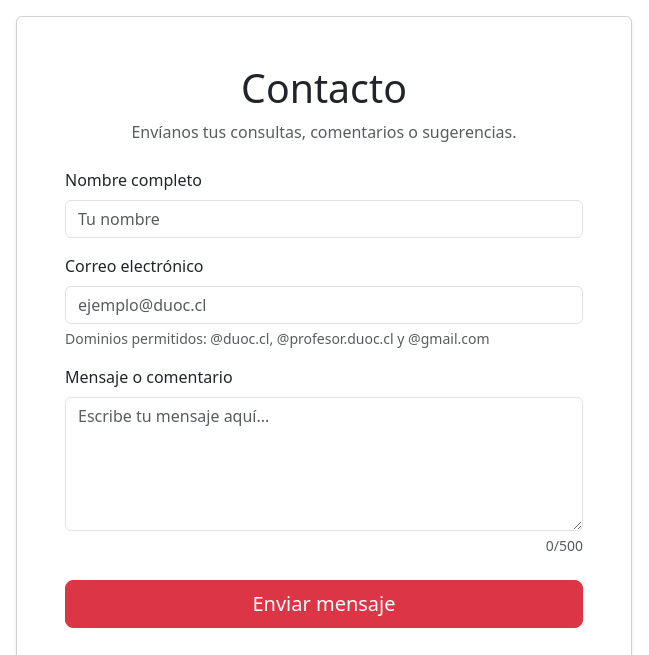
Test: Formulario de Contacto › muestra confirmación al enviar un formulario válido
Type "Ricardo Prueba" into the field with placeholder "Tu nombre".
click(324, 219); type("Ricardo Prueba")  # box [65, 200, 583, 238]
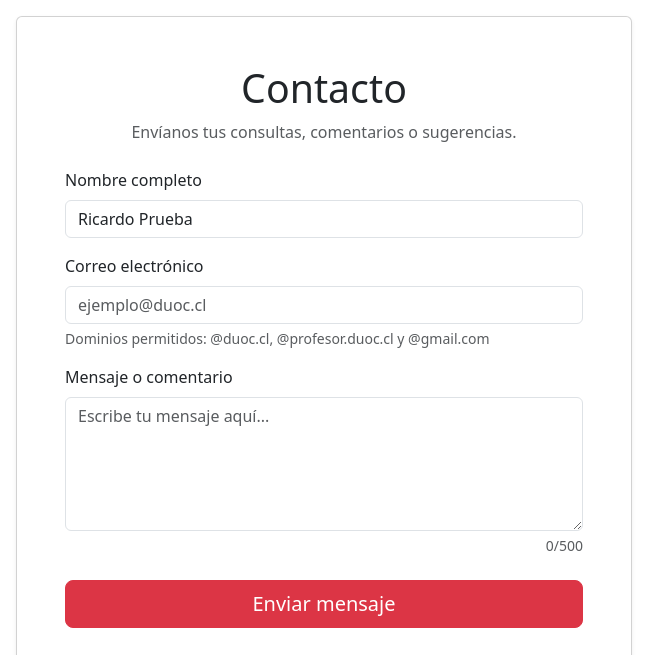
Type "ricardo@gmail.com" into the field with placeholder "ejemplo@duoc.cl".
click(324, 305); type("ricardo@gmail.com")  # box [65, 286, 583, 324]
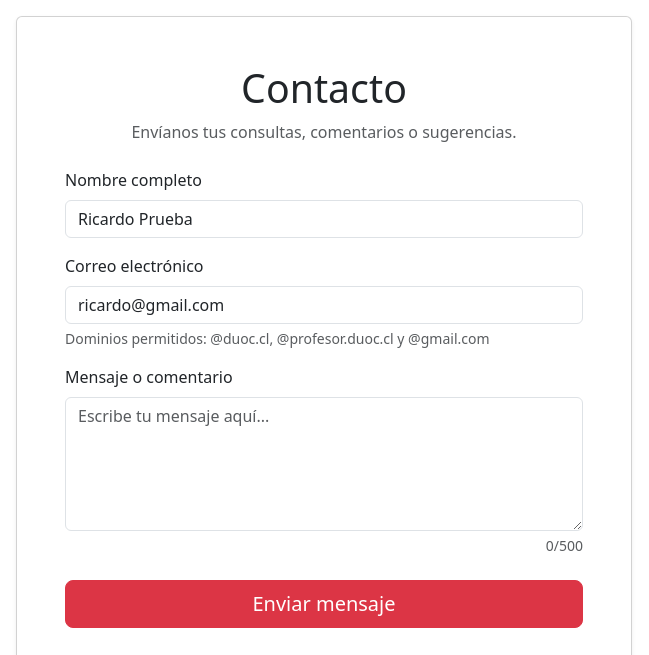
Type "Necesito información sobre un producto." into the text box with placeholder "Escribe tu mensaje aquí...".
click(324, 464); type("Necesito información sobre un producto.")  # box [65, 397, 583, 531]
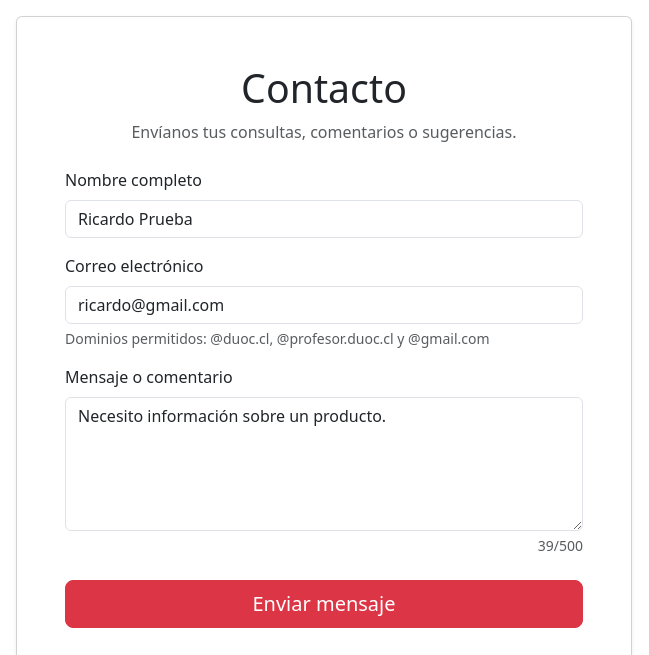
Click the button "Enviar mensaje".
click(324, 604)  # box [65, 580, 583, 628]
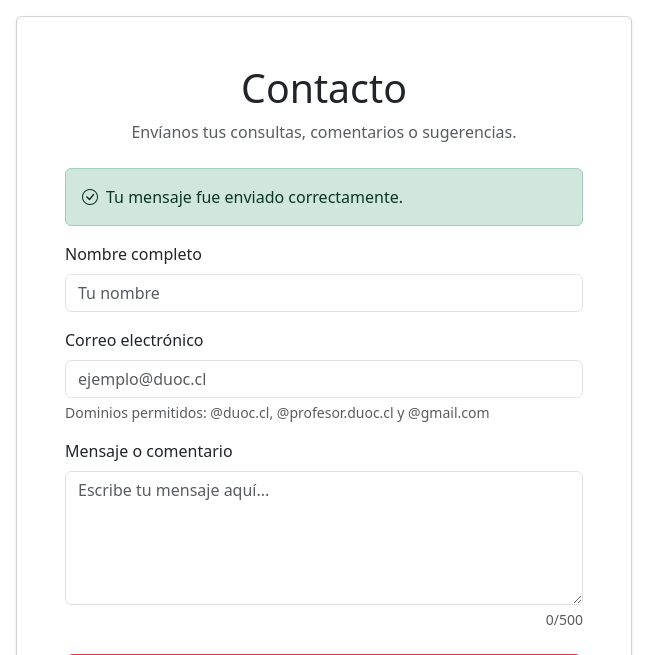
Now the text "Tu mensaje fue enviado correctamente." is shown, box [65, 168, 583, 226]
